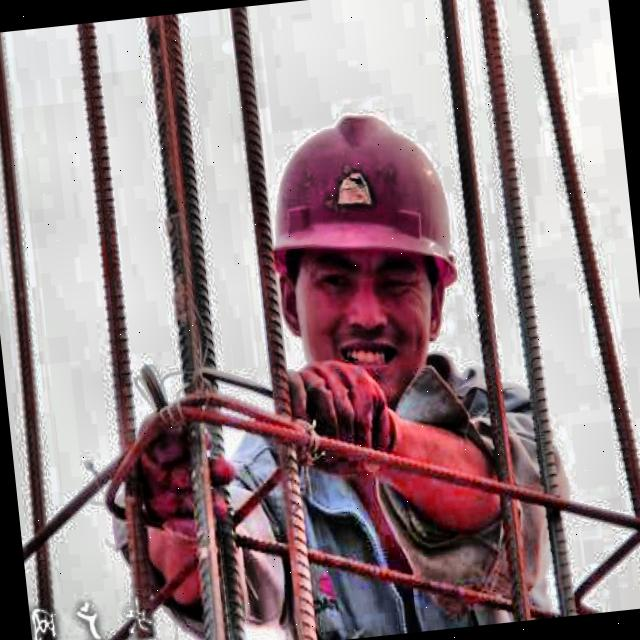helmet: (244, 75, 488, 422)
